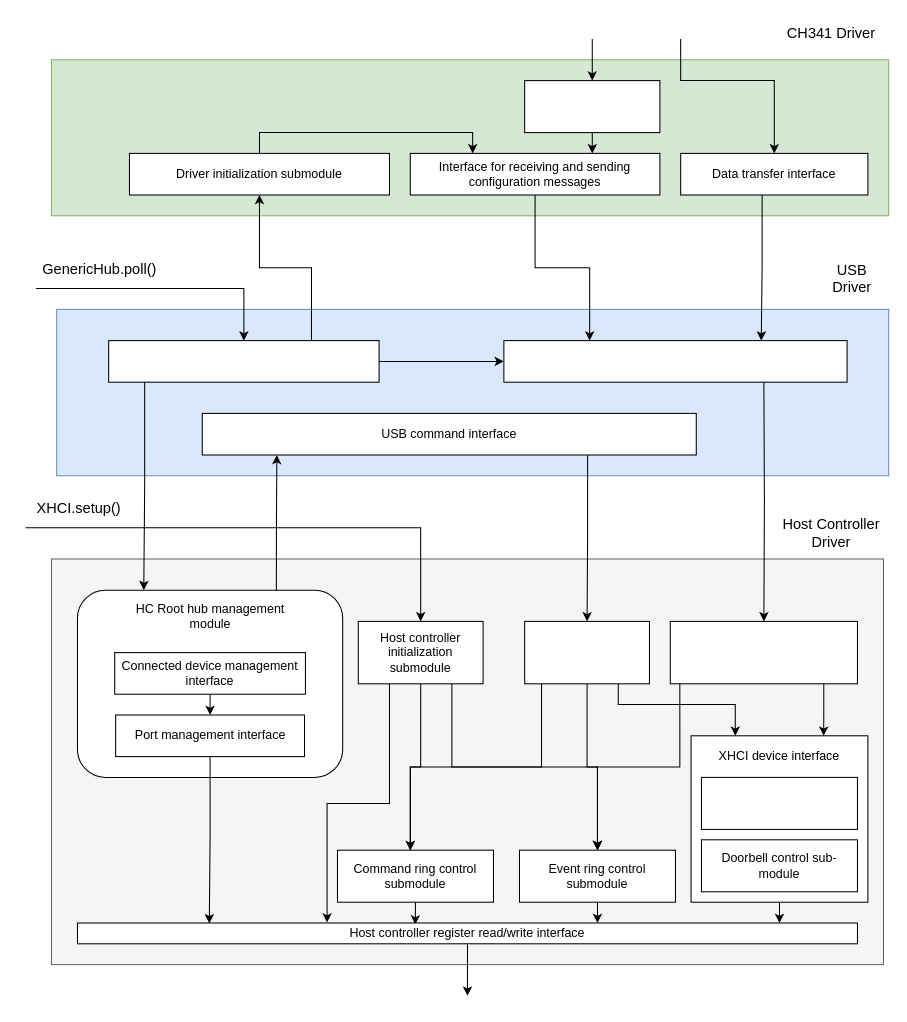
This 907x1022 diagram has some shape labels left out. Each missing label, with the centre of its shape:
"Control interface for connected devices" belongs at [243,361].
"Endpoint management interface" belongs at [763,652].
"Port manupulation interface" belongs at [592,106].
"Transfer rings control submodule" belongs at [778,802].
"USB transaction interface (USB Request Blocks)" belongs at [675,361].
"XHCI command interface" belongs at [586,652].
